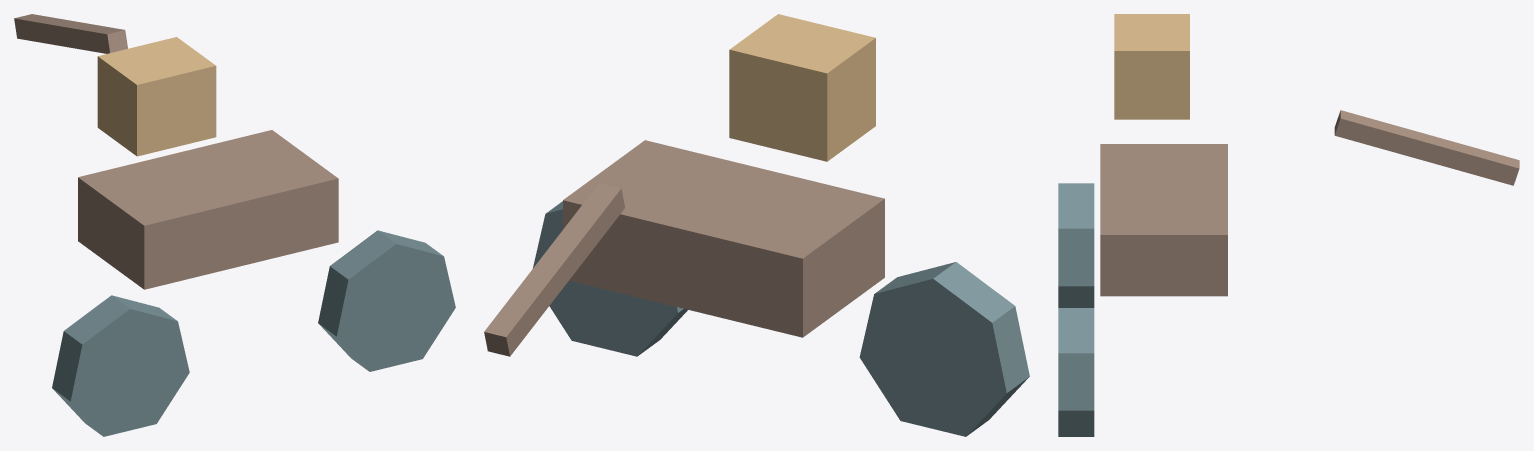
The model's file is harbour-freight-cart-01.glb.
3 views of the same model, side by side, from view 1: azimuth 30°, elevation 25°; view 2: azimuth 150°, elevation 25°; view 3: azimuth 270°, elevation 25° (orthographic). The views are drawn at different scales.
Visible parts, largest first — view 1: CartBed, Wheel_0, Wheel_1, Parcel, CartHandle; view 2: CartBed, Wheel_0, Parcel, CartHandle, Wheel_1; view 3: CartBed, Parcel, CartHandle, Wheel_1, Wheel_0.
Part boxes in pixels (x1=…): CartBed: x1=78, y1=130, x2=338, y2=289; Wheel_0: x1=52, y1=295, x2=189, y2=436; Wheel_1: x1=318, y1=230, x2=455, y2=371; Parcel: x1=97, y1=37, x2=216, y2=156; CartHandle: x1=14, y1=14, x2=127, y2=53; CartBed: x1=563, y1=140, x2=884, y2=337; Wheel_0: x1=859, y1=262, x2=1029, y2=436; Parcel: x1=729, y1=14, x2=875, y2=161; CartHandle: x1=484, y1=183, x2=625, y2=356; Wheel_1: x1=532, y1=201, x2=687, y2=356; CartBed: x1=1100, y1=144, x2=1227, y2=296; Parcel: x1=1114, y1=14, x2=1189, y2=119; CartHandle: x1=1334, y1=110, x2=1519, y2=185; Wheel_1: x1=1058, y1=308, x2=1094, y2=436; Wheel_0: x1=1058, y1=183, x2=1094, y2=307.
Bounding box in the file's own units: 1.07 × 0.8382 × 1.16.
